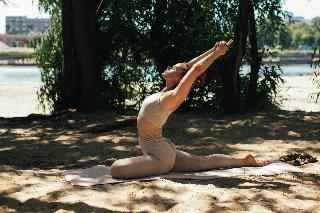person - v3 P: (105, 40, 269, 179)
